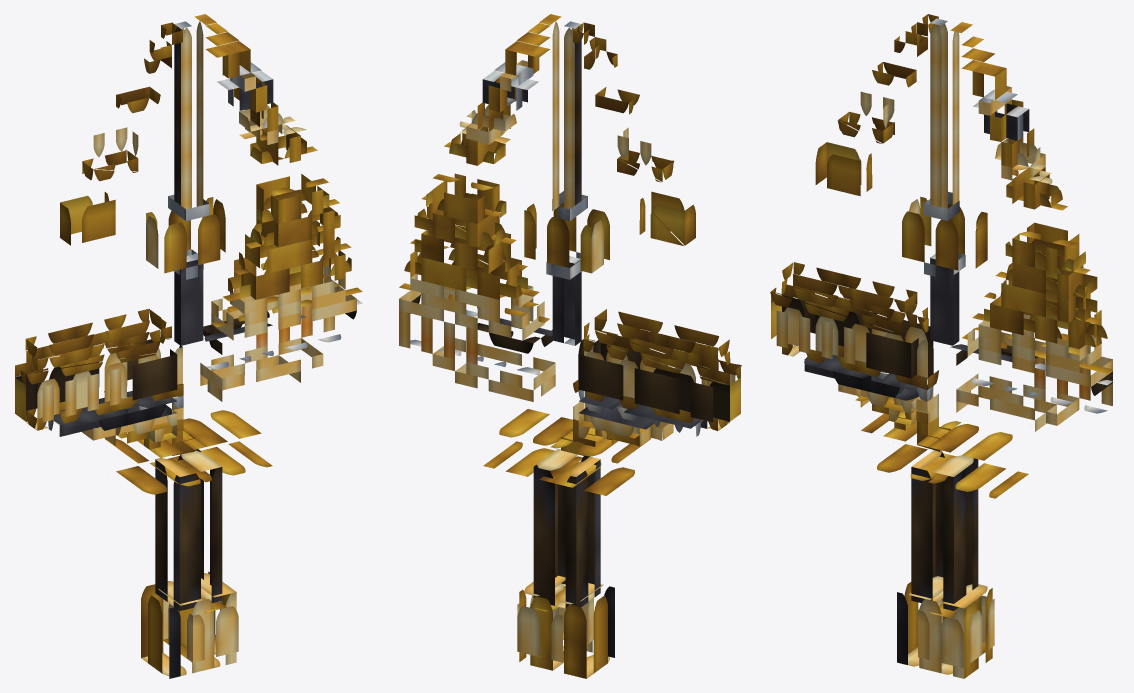
File: twinfang.obj
3 renders of one model, left to right at view 1: azimuth 30°, elevation 25°; view 2: azimuth 150°, elevation 25°; view 3: azimuth 330°, elevation 25°, orthographic.
Visible parts, largest first — view 1: lit, fire; view 2: lit, fire; view 3: lit, fire.
Boxes of the visible parts, x1,y1,x2,y2 form: lit: (15,14,362,678); fire: (146,21,225,345); lit: (399,14,741,678); fire: (524,21,609,345); lit: (770,14,1112,678); fire: (902,18,987,345).
Bounding box in the file's own units: 0.9375 × 1.69 × 0.1625.
